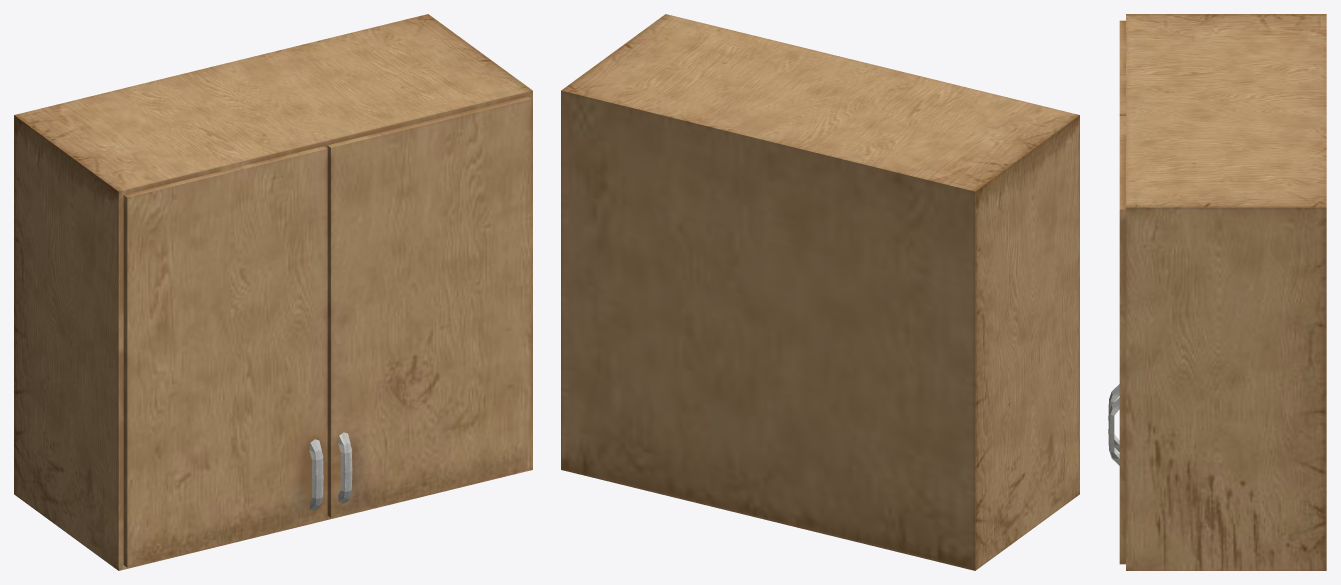
Rendered from armario_alto_a.glb.
3 renders of one model, left to right at view 1: azimuth 30°, elevation 25°; view 2: azimuth 150°, elevation 25°; view 3: azimuth 270°, elevation 25°, orthographic. The views are drawn at different scales.
Parts seen in each view (by area): view 1: armario_alto_a; view 2: armario_alto_a; view 3: armario_alto_a.
Boxes of the visible parts, <box> form: armario_alto_a: <box>14,14,532,570</box>; armario_alto_a: <box>561,14,1079,570</box>; armario_alto_a: <box>1108,14,1326,570</box>.
Bounding box in the file's own units: 0.8 × 0.7 × 0.3809.
Materials: 1 (1 with a texture image).
